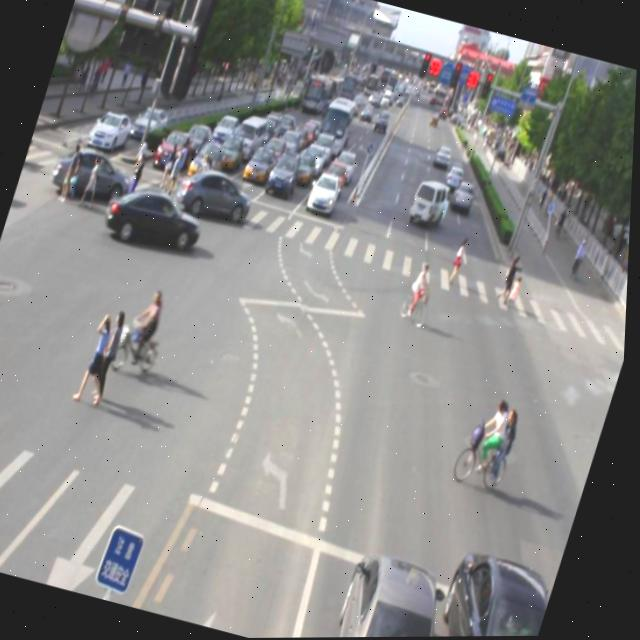car: (426, 548, 563, 637), (327, 551, 458, 638), (101, 178, 212, 258), (172, 161, 260, 225)
